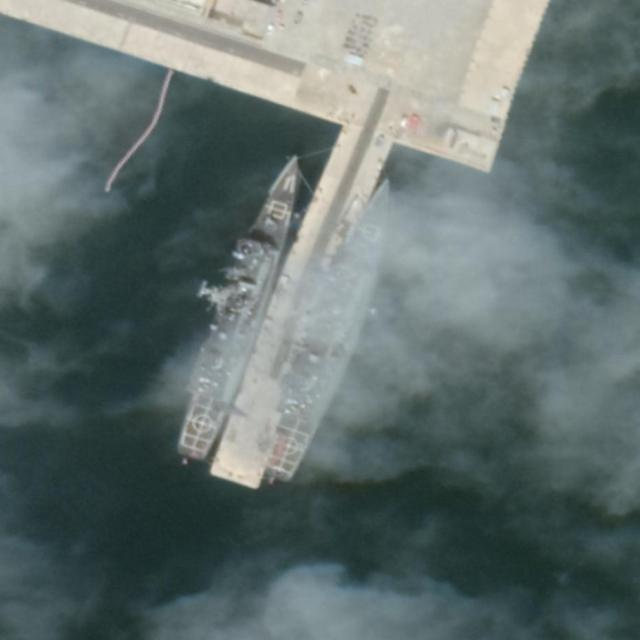Dock: (208, 119, 395, 491)
Frigate: (262, 167, 405, 488), (171, 149, 315, 461)
